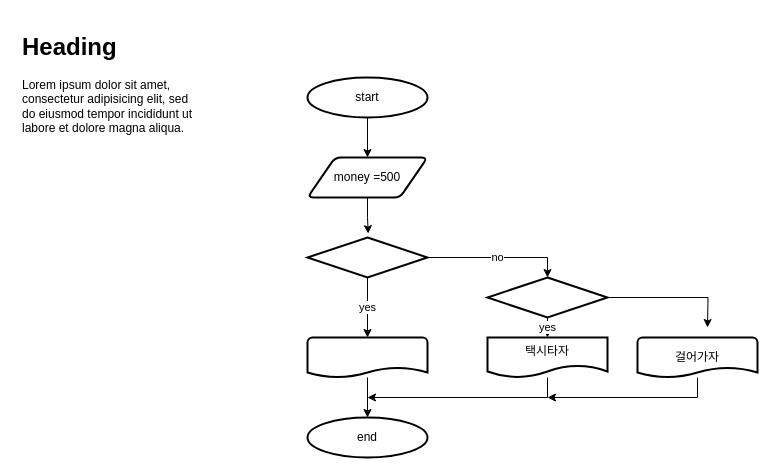
This 775x475 diagram has some shape labels left out. The shapes that lost their labels are listed below. From the top down, each one's centre as x and y in pixels, then its label:
At point (367, 257): "money >=1000 || card".
At point (547, 297): "money >=5000".
At point (367, 357): "버스타자".
